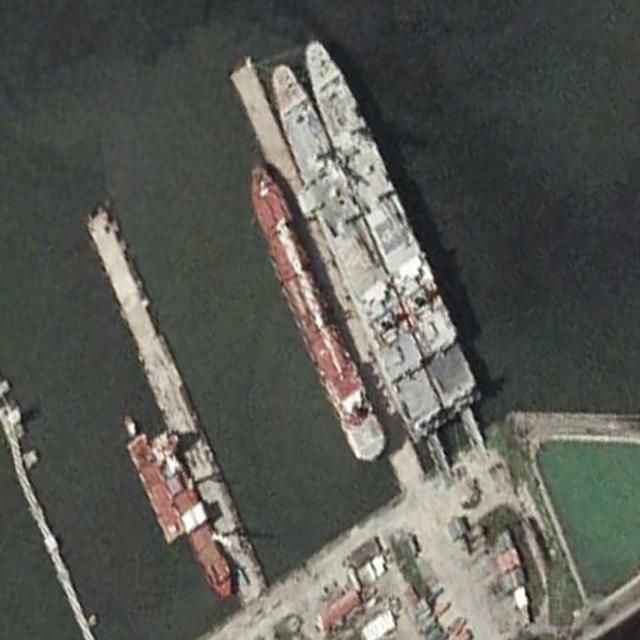Cargo: (259, 50, 449, 447), (294, 28, 484, 421)
Other Ship: (236, 152, 392, 475), (149, 425, 238, 608)
